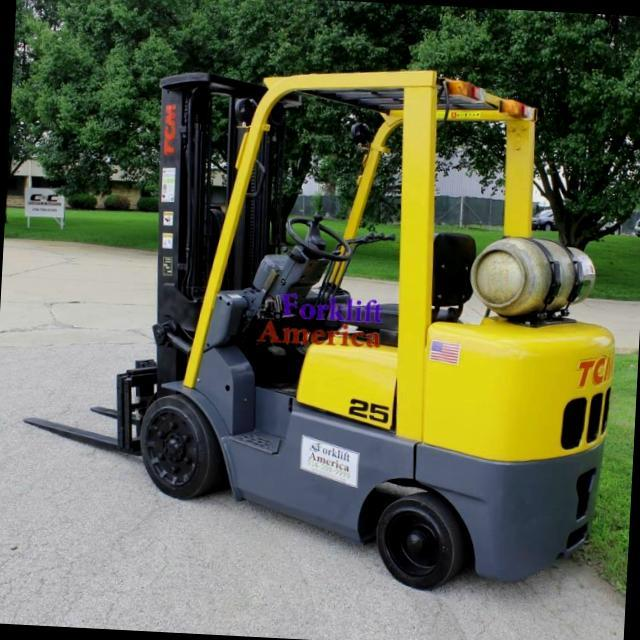forklift: (89, 28, 634, 604)
